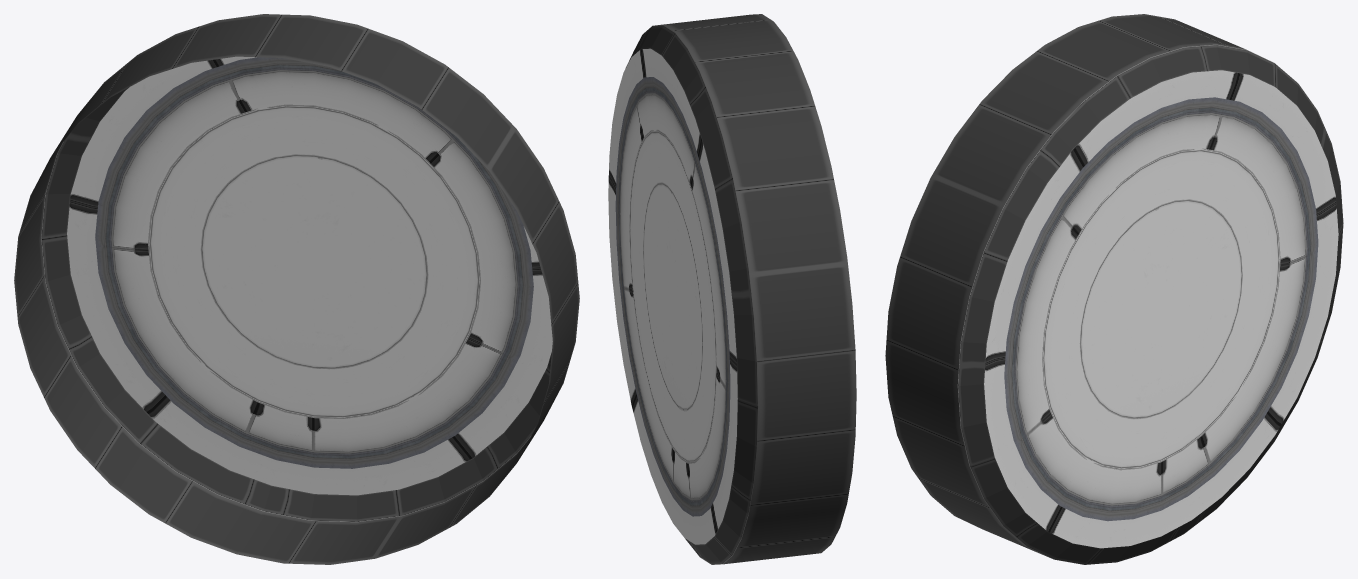
Rendered from podDoor.fbx.
The picture shows the model from 3 angles, left to right: view 1: azimuth 30°, elevation 25°; view 2: azimuth 150°, elevation 25°; view 3: azimuth 270°, elevation 25°; orthographic projection. The views are drawn at different scales.
Visible parts, largest first — view 1: podDoor; view 2: podDoor; view 3: podDoor.
Part boxes in pixels (x1,y1,x2,y2): podDoor: [14, 14, 579, 564]; podDoor: [608, 14, 856, 564]; podDoor: [885, 14, 1343, 564].
Bounding box in the file's own units: 266 × 317 × 266.
